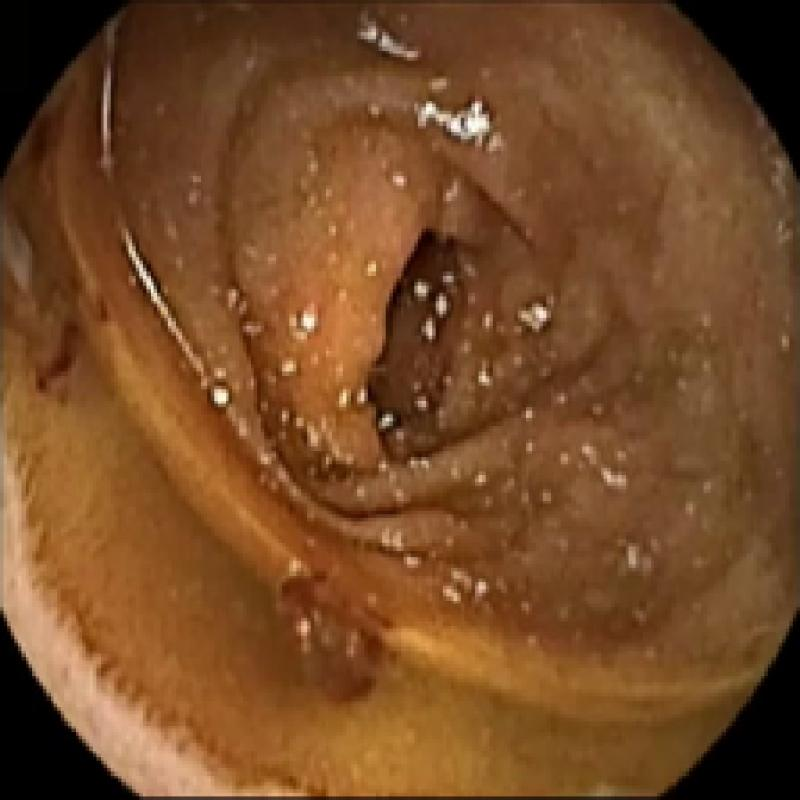bleeding: (272, 564, 394, 700), (32, 307, 79, 393)
